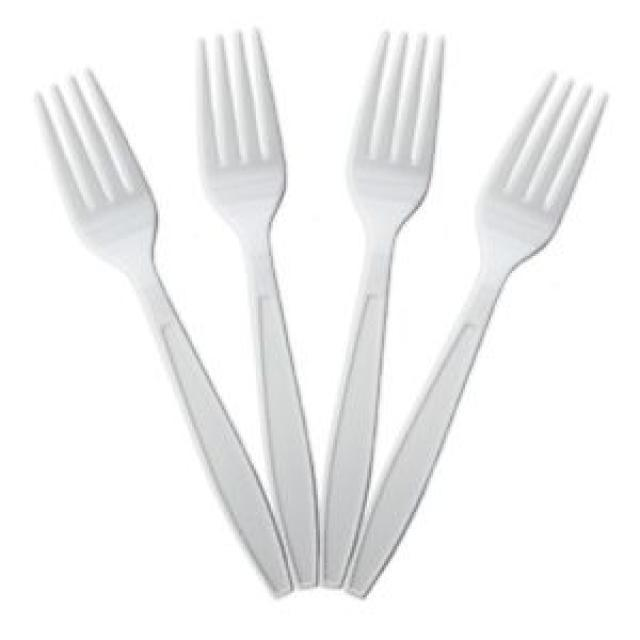spoon: (27, 74, 257, 597), (188, 15, 329, 589), (462, 33, 605, 585), (353, 20, 444, 618)
